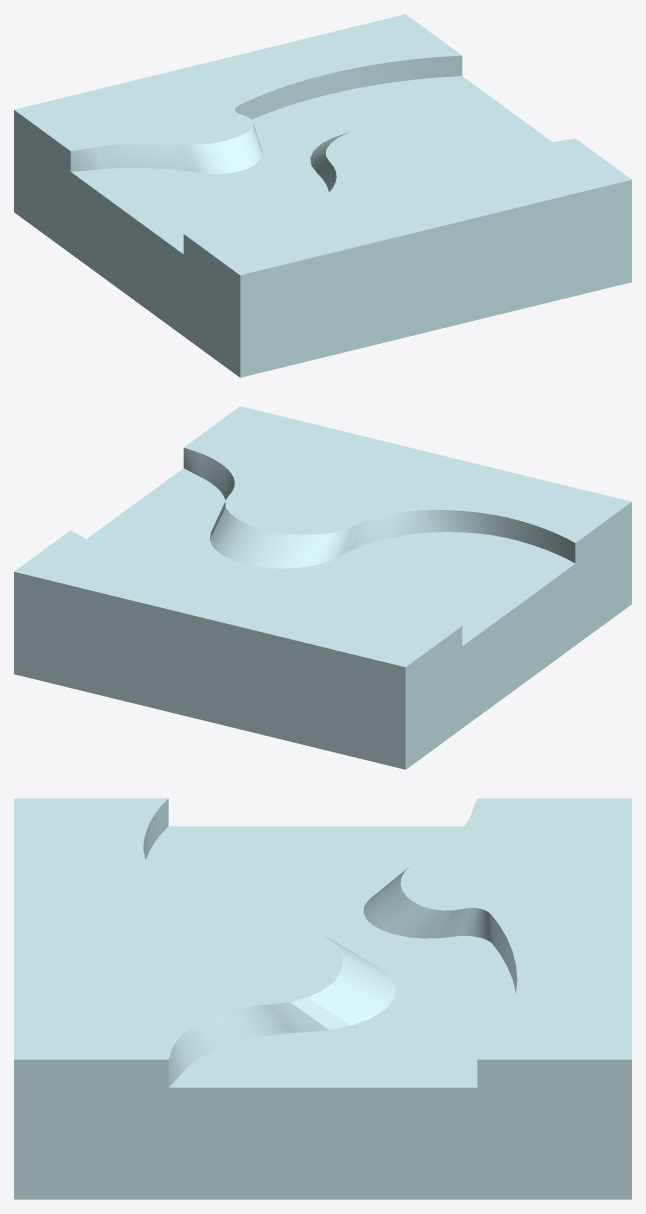
Rendered from ground_dirtRiverBanks.fbx.
The picture shows the model from 3 angles, top to bottom: view 1: azimuth 30°, elevation 25°; view 2: azimuth 150°, elevation 25°; view 3: azimuth 270°, elevation 25°; orthographic projection. The views are drawn at different scales.
Visible parts, largest first — view 1: ground_dirtRiverBanks; view 2: ground_dirtRiverBanks; view 3: ground_dirtRiverBanks.
Boxes of the visible parts, <box> form: ground_dirtRiverBanks: <box>14,14,631,377</box>; ground_dirtRiverBanks: <box>14,406,631,769</box>; ground_dirtRiverBanks: <box>14,798,631,1199</box>.
Size of the model in its own units: 300 by 75 by 300.
